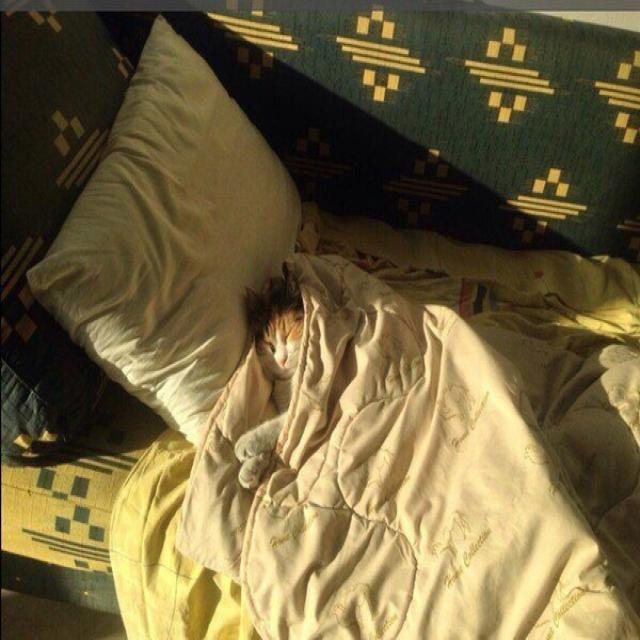cat: (218, 270, 308, 504)
